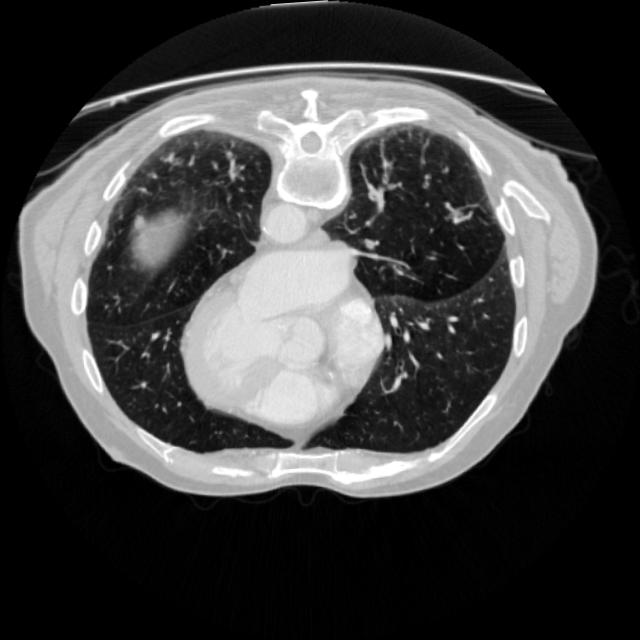nodule: (126, 210, 150, 233)
